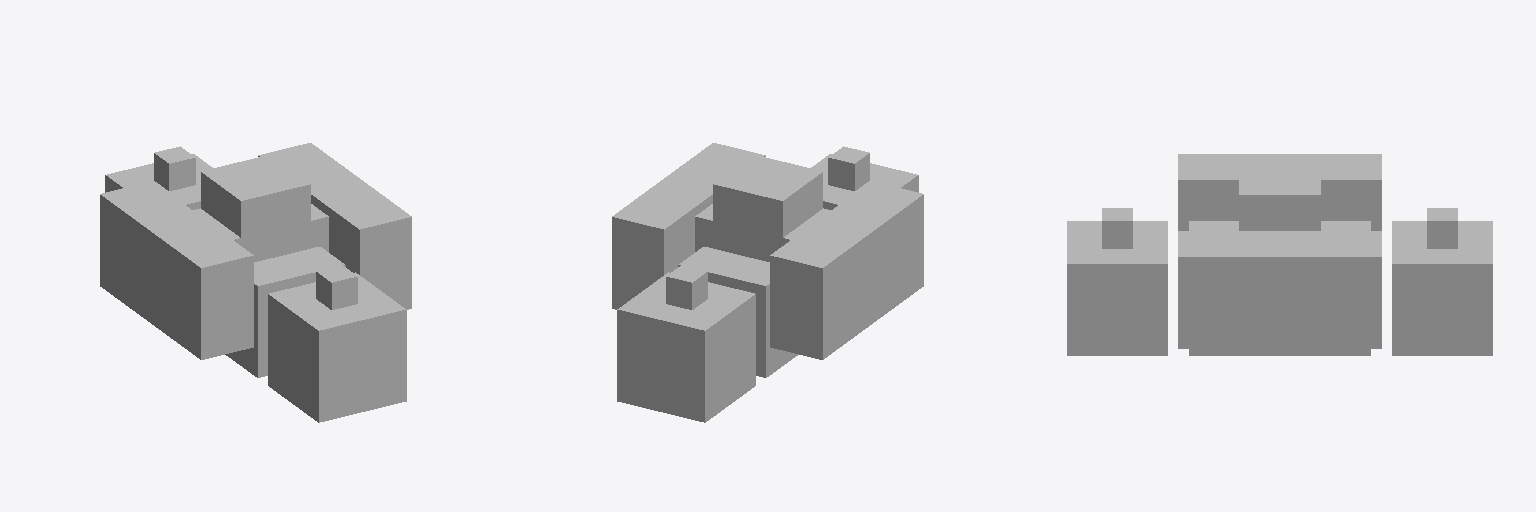
Rendered from frame.obj.
3 views of the same model, side by side, from view 1: azimuth 30°, elevation 25°; view 2: azimuth 150°, elevation 25°; view 3: azimuth 270°, elevation 25° (orthographic).
Visible parts, largest first — view 1: cube_4, cube_7, cube_3, cube_0, cube_1, cube_2, cube_5, cube_6, cube_8; view 2: cube_4, cube_5, cube_3, cube_0, cube_1, cube_2, cube_7, cube_8, cube_6; view 3: cube_3, cube_5, cube_7, cube_4, cube_0, cube_1, cube_6, cube_8.
Boxes of the visible parts, box(x1,y1,x2,y2) form: cube_4: box(100, 181, 253, 359); cube_7: box(268, 272, 406, 422); cube_3: box(258, 143, 411, 309); cube_0: box(201, 154, 310, 237); cube_1: box(225, 247, 345, 377); cube_2: box(193, 204, 328, 261); cube_5: box(105, 154, 212, 209); cube_6: box(154, 146, 195, 190); cube_8: box(316, 265, 357, 309); cube_4: box(770, 181, 923, 359); cube_5: box(617, 272, 755, 422); cube_3: box(612, 143, 765, 309); cube_0: box(713, 154, 822, 237); cube_1: box(678, 247, 798, 377); cube_2: box(695, 204, 830, 261); cube_7: box(811, 154, 918, 209); cube_8: box(828, 146, 869, 190); cube_6: box(666, 265, 707, 309); cube_3: box(1178, 231, 1381, 348); cube_5: box(1392, 221, 1492, 355); cube_7: box(1067, 221, 1167, 355); cube_4: box(1178, 154, 1381, 230); cube_0: box(1239, 161, 1320, 230); cube_1: box(1189, 221, 1370, 355); cube_6: box(1427, 208, 1457, 248); cube_8: box(1102, 208, 1132, 248).
Size of the model in its own units: 1.5 by 1.06 by 2.62.